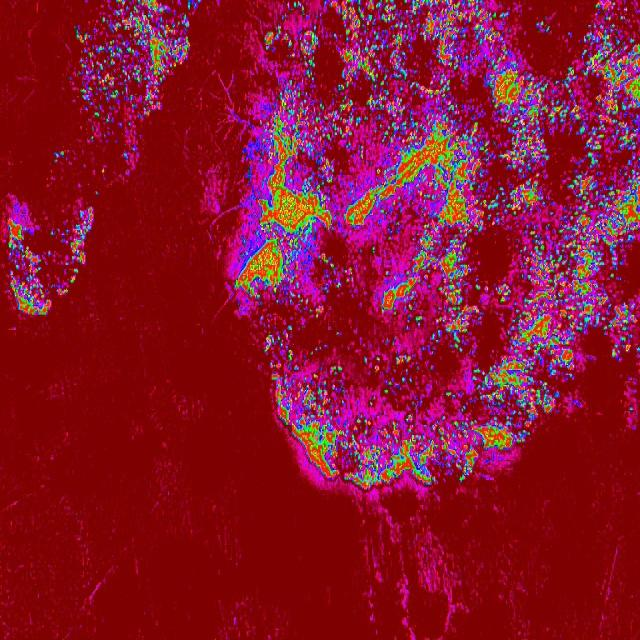fire: (225, 0, 640, 358), (271, 357, 589, 415), (277, 414, 543, 460), (68, 0, 143, 148), (308, 459, 512, 497), (0, 196, 52, 322), (51, 206, 94, 298), (143, 0, 163, 112), (164, 0, 192, 75)
